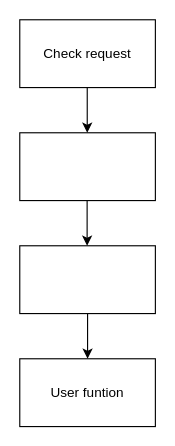
The diagram is 175 pixels wide and 446 high, and some of its shapes have lost their labels. Each missing label, with the centre of its shape:
"middleware1 (Logger)" goes at (87,166).
"middleware2... (Auth)" goes at (87,279).
